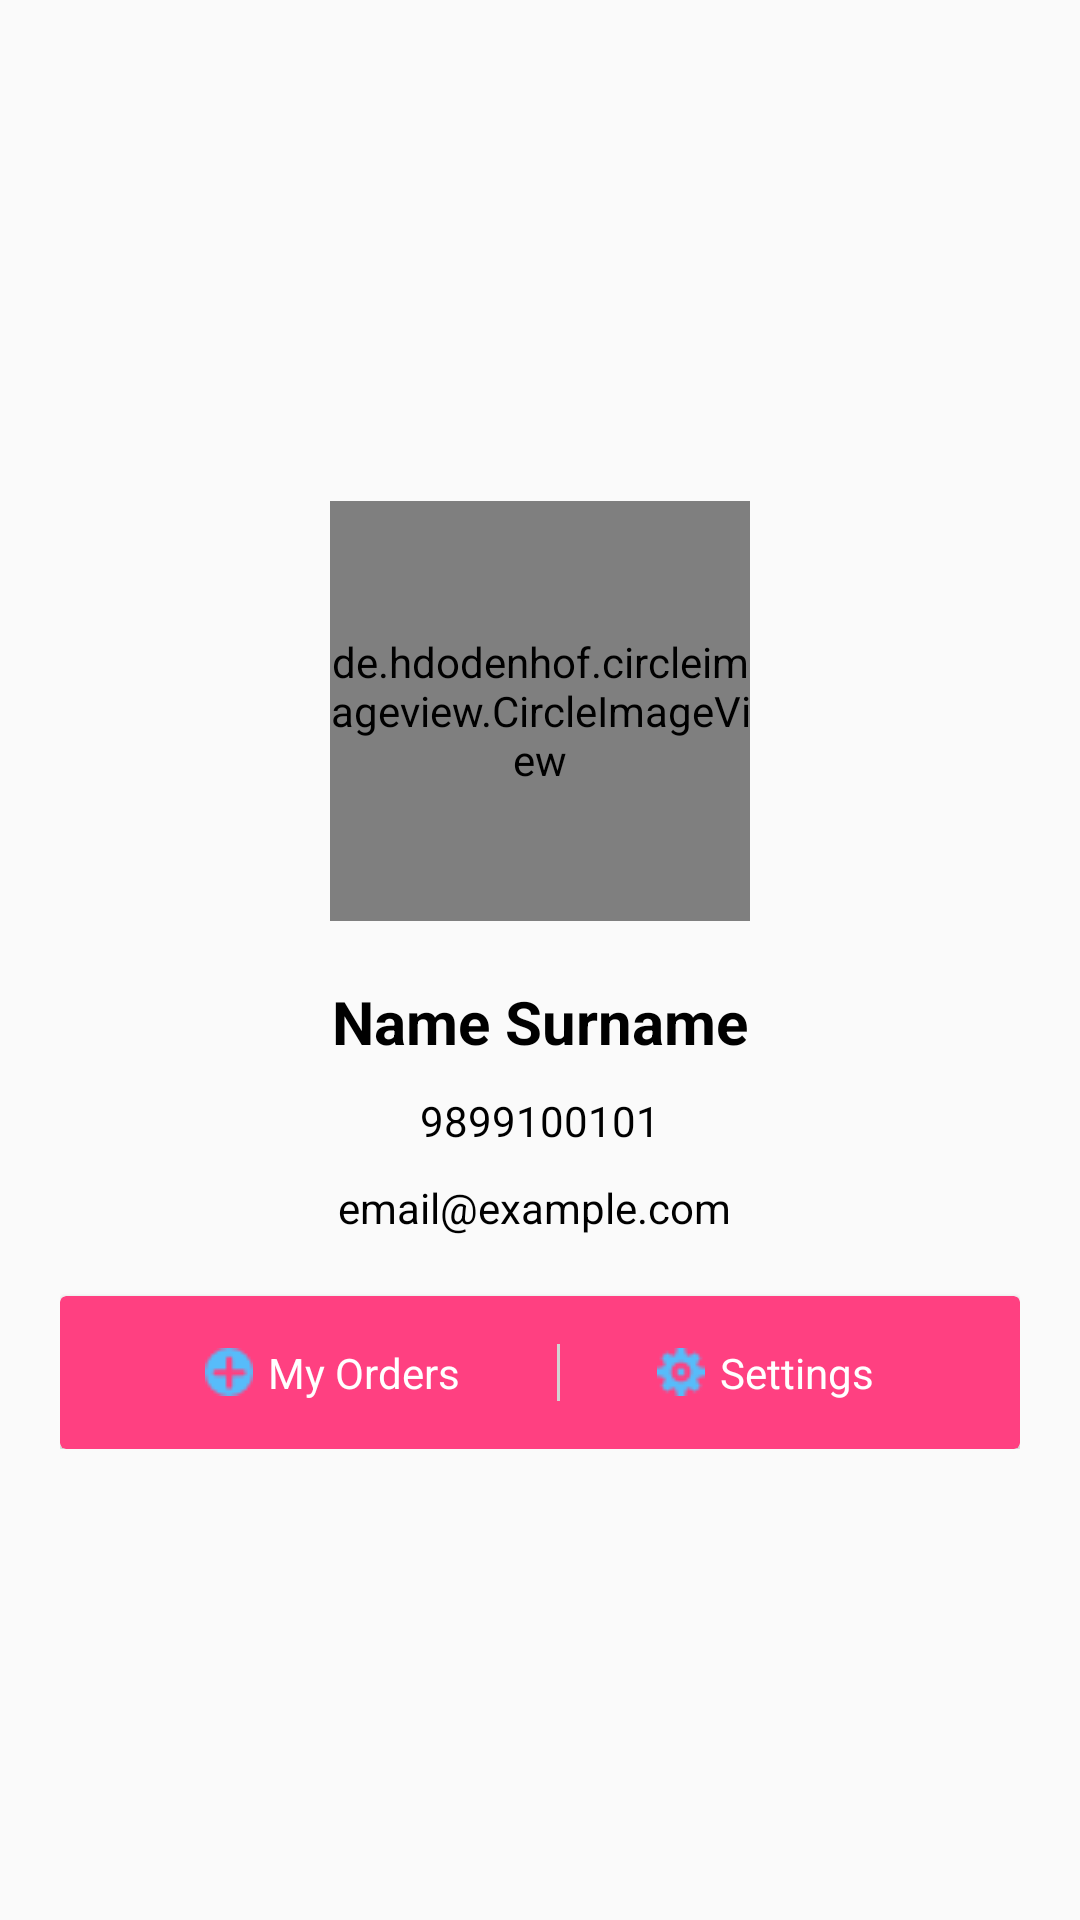

Icons on this 1080px×1920px Android screen, each with the point to tap as (x,y):
plus: (229,1372)
